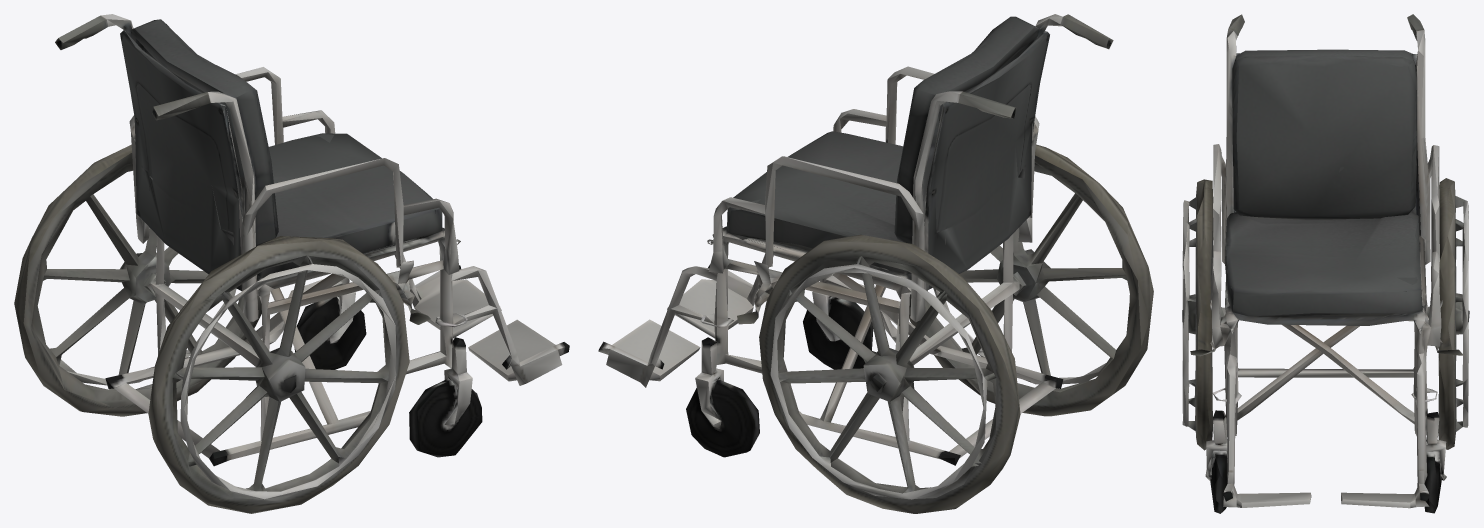
The picture shows the model from 3 angles, left to right: view 1: azimuth 30°, elevation 25°; view 2: azimuth 150°, elevation 25°; view 3: azimuth 270°, elevation 25°; orthographic projection. The views are drawn at different scales.
Visible parts, largest first — view 1: repaired; view 2: repaired; view 3: repaired.
Part boxes in pixels (x1,y1,x2,y2): repaired: (14, 14, 569, 513); repaired: (598, 14, 1153, 513); repaired: (1182, 14, 1469, 513).
Size of the model in its own units: 1 by 0.9333 by 0.6353.
